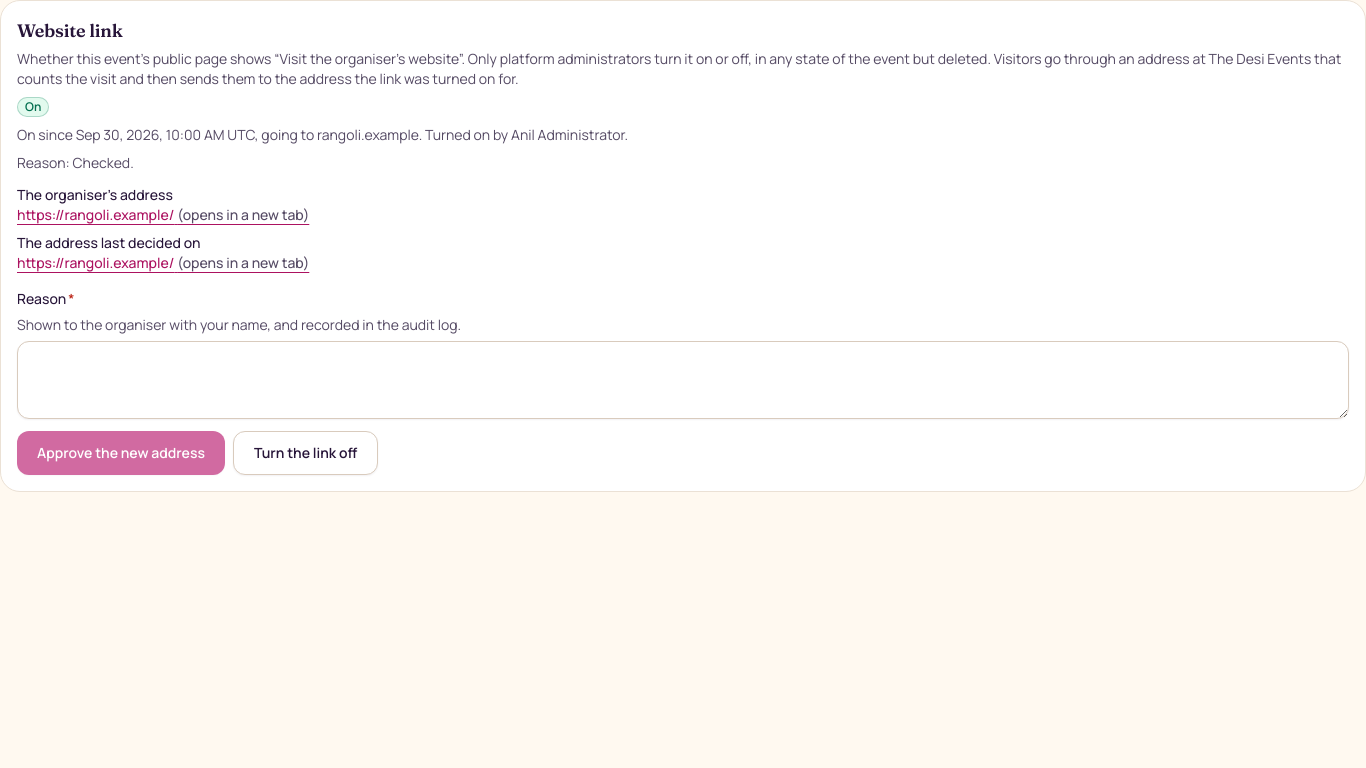
Scenario: the website link panel › says so when the organiser removed the address
Type "Stopping it." into the text box labelled "Reason*". click: (683, 380)
box: top-left (17, 341), bottom-right (1349, 419)
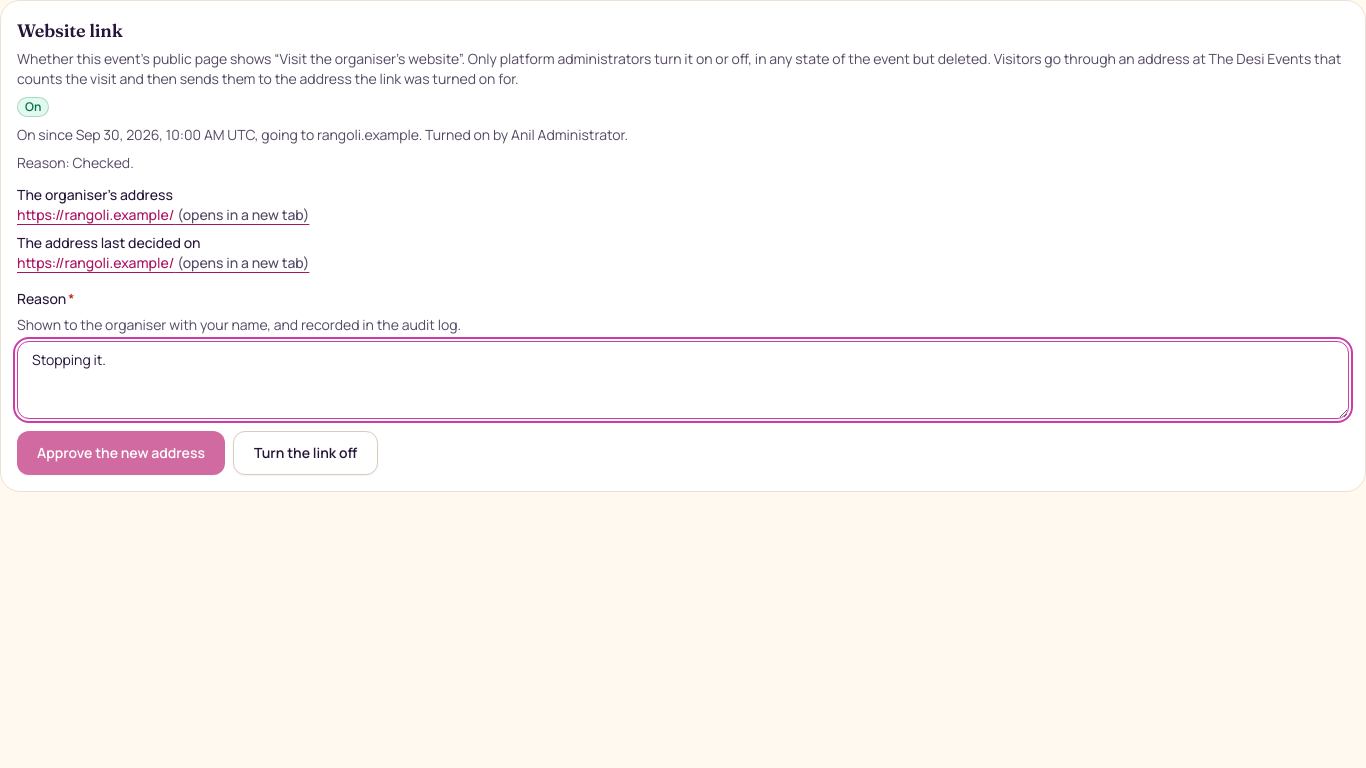
Click the button "Turn the link off". click: (306, 453)
box: top-left (233, 431), bottom-right (378, 475)
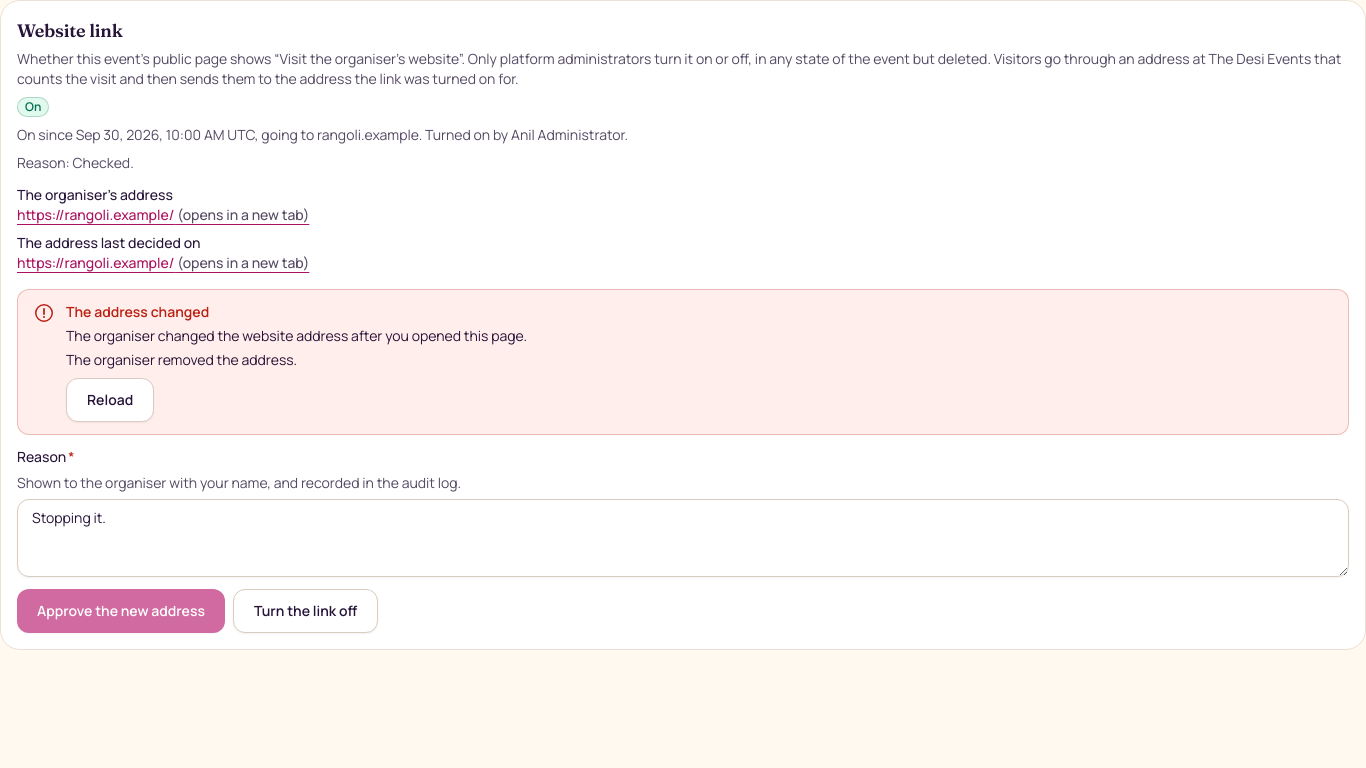
Expected: the text "The organiser removed the address." is shown, top-left (66, 350), bottom-right (297, 369)
